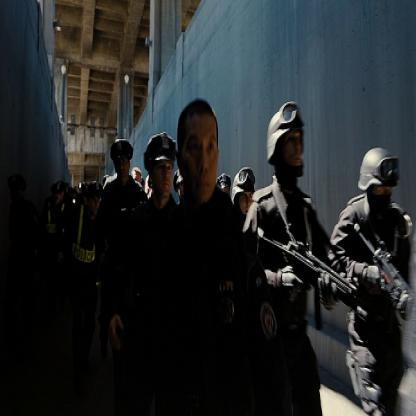Gun: (256, 217, 415, 336)
